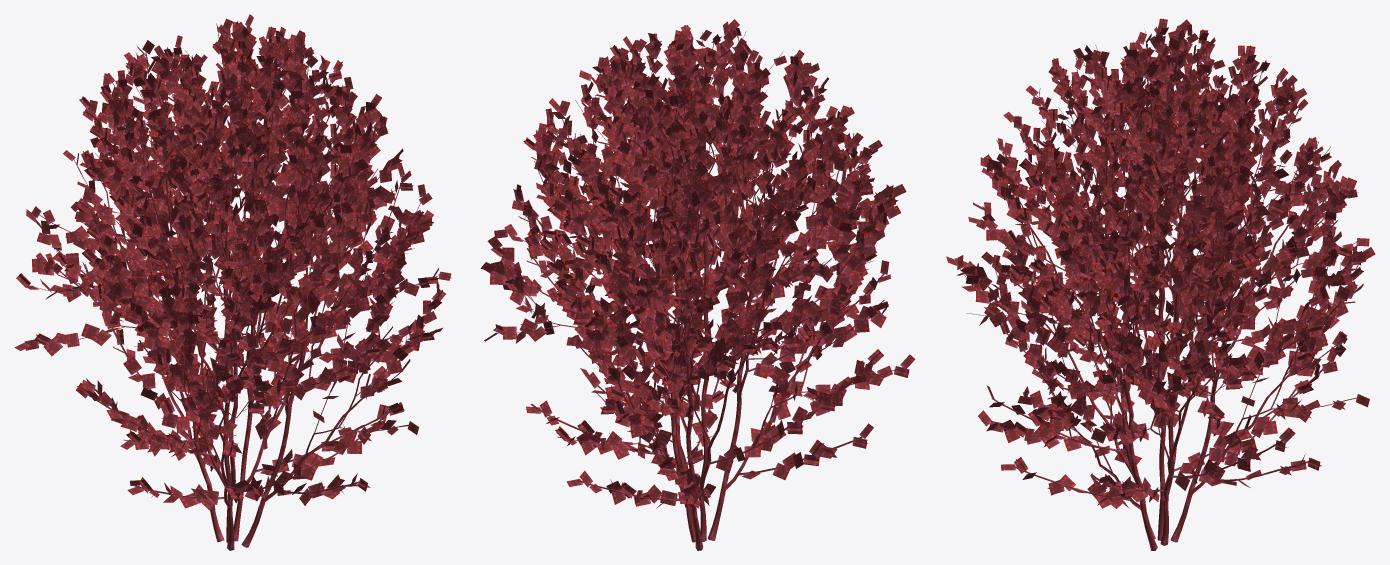
File: cay-hang-rao-2.glb
3 views of the same model, side by side, from view 1: azimuth 30°, elevation 25°; view 2: azimuth 150°, elevation 25°; view 3: azimuth 270°, elevation 25° (orthographic).
Parts seen in each view (by area): view 1: Flower01_2; view 2: Flower01_2; view 3: Flower01_2.
Part boxes in pixels (bbox=[...]): Flower01_2: bbox=[14, 14, 451, 550]; Flower01_2: bbox=[480, 19, 915, 550]; Flower01_2: bbox=[946, 18, 1375, 550].
Bounding box in the file's own units: 0.5943 × 0.8078 × 0.615.
Materials: 1 (1 with a texture image).
